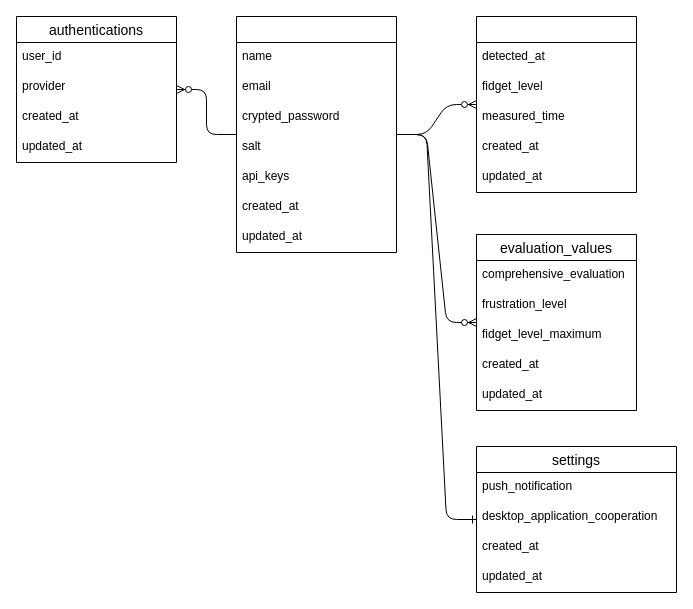
Image size: 693x609. Some labels were removed from this diagram. Each missing label, with the box of its shape:
measured_values: (476, 16, 636, 192)
users: (236, 16, 396, 252)
